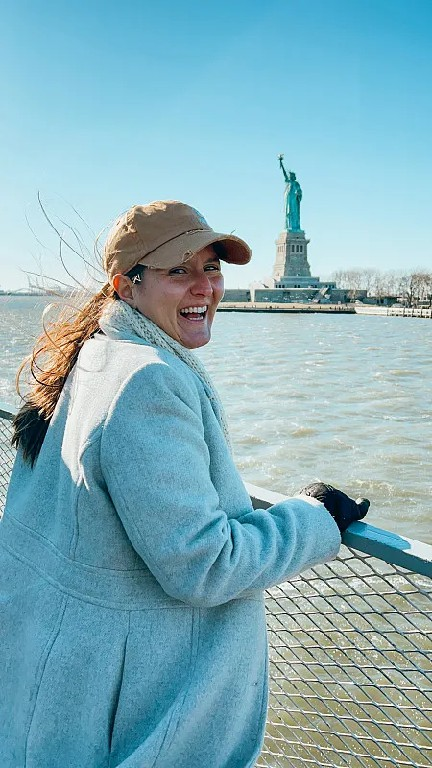SL: (273, 152, 313, 278)
